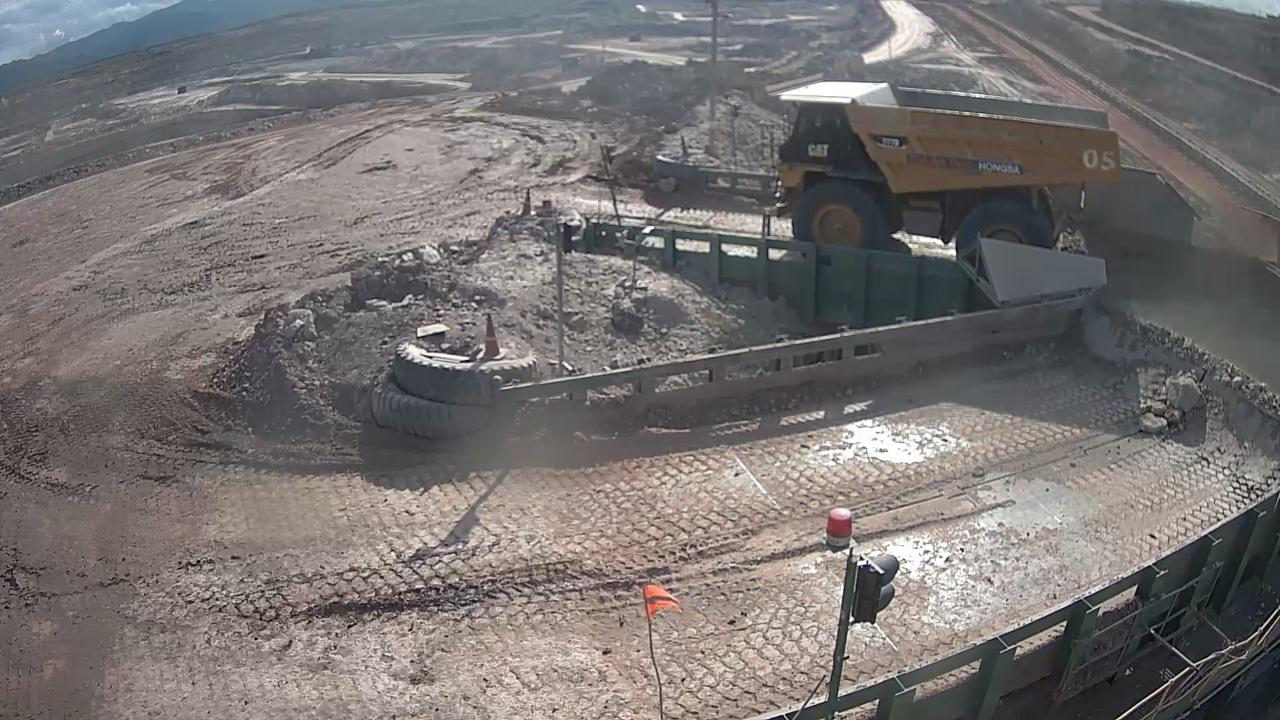empty_load: (877, 63, 1107, 127)
mining_truck: (766, 49, 1122, 261)
tail_number: (1082, 139, 1120, 177)
